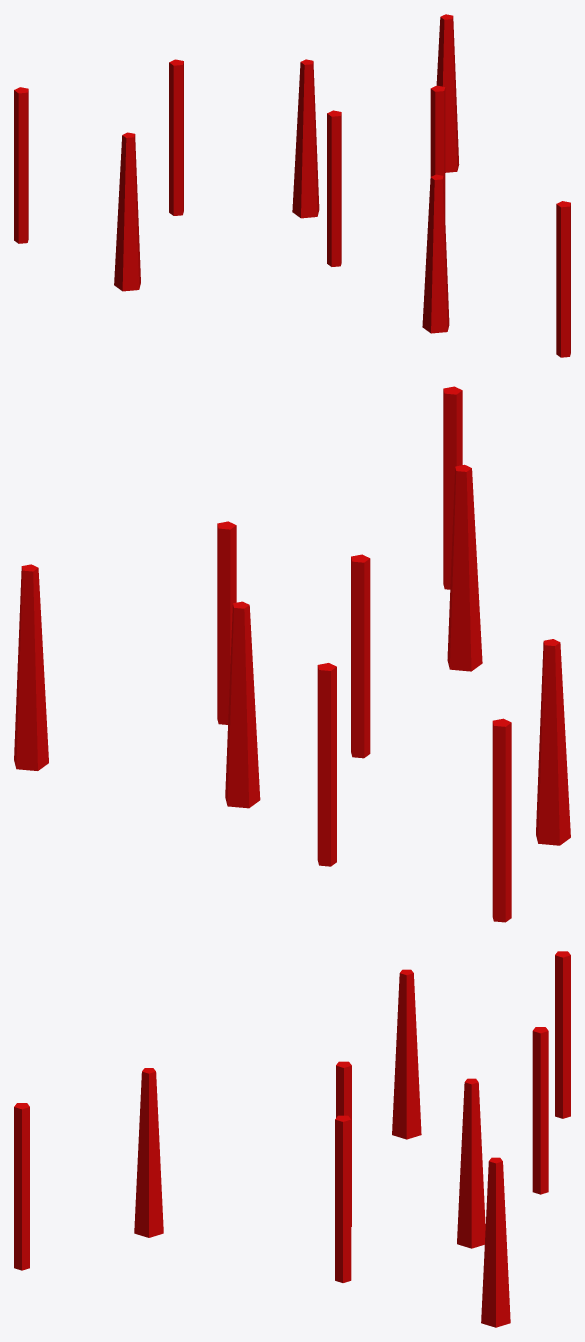
The model's file is SM_Env_Tree_Cluster_02_Collision.fbx.
3 views of the same model, one above another, from view 1: azimuth 30°, elevation 25°; view 2: azimuth 150°, elevation 25°; view 3: azimuth 270°, elevation 25° (orthographic). The views are drawn at different scales.
Visible parts, largest first — view 1: SM_Env_Tree_Cluster_02_Collision; view 2: SM_Env_Tree_Cluster_02_Collision; view 3: SM_Env_Tree_Cluster_02_Collision.
Part boxes in pixels (x1,y1,x2,y2): SM_Env_Tree_Cluster_02_Collision: [14, 14, 570, 357]; SM_Env_Tree_Cluster_02_Collision: [14, 386, 570, 922]; SM_Env_Tree_Cluster_02_Collision: [14, 951, 570, 1327].
Size of the model in its own units: 1557 by 544 by 1703.
